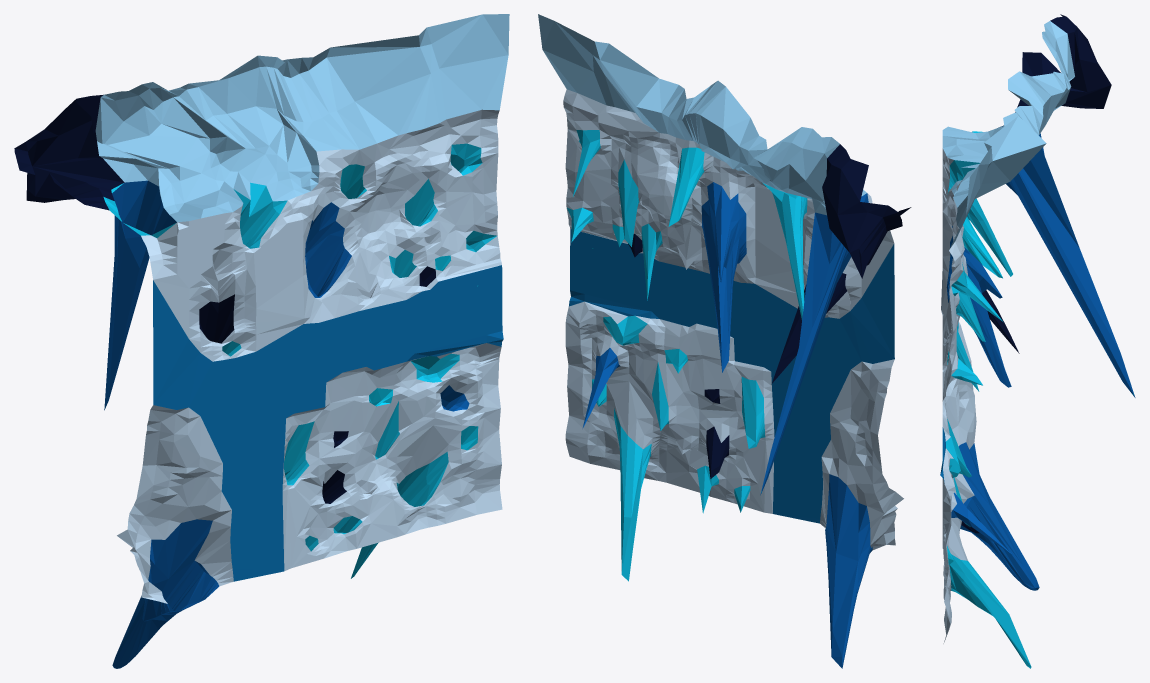
The model's file is PikeTerrainY.fbx.
3 renders of one model, left to right at view 1: azimuth 30°, elevation 25°; view 2: azimuth 150°, elevation 25°; view 3: azimuth 270°, elevation 25°, orthographic. The views are drawn at different scales.
Visible parts, largest first — view 1: Plane; view 2: Plane; view 3: Plane.
Part boxes in pixels (x1=…): Plane: x1=14, y1=14, x2=509, y2=668; Plane: x1=538, y1=14, x2=911, y2=668; Plane: x1=940, y1=14, x2=1135, y2=668.
Bounding box in the file's own units: 69.56 × 89.14 × 26.75.
1 material, 1 textured.
